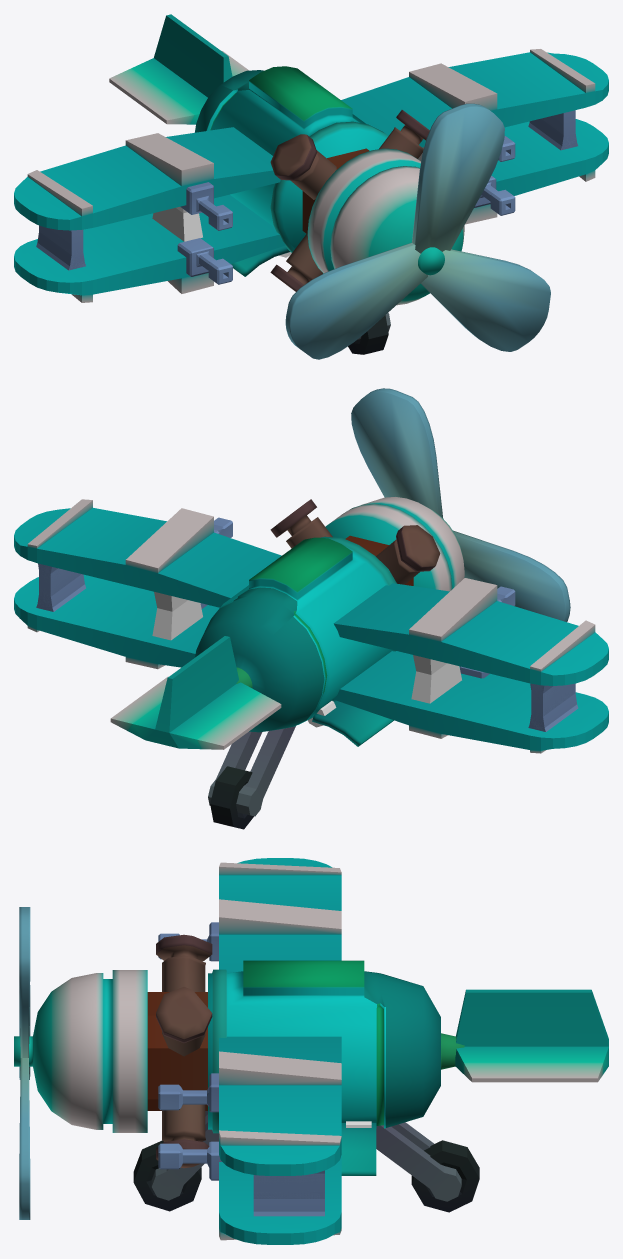
Rendered from самолет 5.fbx.
3 renders of one model, top to bottom at view 1: azimuth 30°, elevation 25°; view 2: azimuth 150°, elevation 25°; view 3: azimuth 270°, elevation 25°, orthographic. The views are drawn at different scales.
Visible parts, largest first — view 1: Cube.050, Cube.053, Cylinder.046, Cylinder.044, Cube.054, Cylinder.045, Cube.055, Cube.051, Cube.052, Cylinder.054, Cube.049, Cylinder.048; view 2: Cube.050, Cylinder.046, Cube.053, Cube.054, Cylinder.044, Cylinder.049, Cylinder.045, Cube.051, Cube.052, Cylinder.048, Cube.055; view 3: Cube.050, Cylinder.046, Cylinder.044, Cube.054, Cylinder.045, Cylinder.049, Cube.049, Cube.053, Cube.055, Cylinder.054, Cube.051, Cylinder.047.
Part boxes in pixels (x1,y1,x2,y2): Cube.050: (14,49,608,302); Cube.053: (285,103,550,359); Cylinder.046: (195,66,388,252); Cylinder.044: (307,148,464,305); Cube.054: (109,14,248,124); Cylinder.045: (270,110,429,291); Cube.055: (177,136,515,284); Cube.051: (36,110,578,270); Cube.052: (152,147,424,241); Cylinder.054: (348,313,390,354); Cube.049: (302,148,369,233); Cylinder.048: (231,245,289,276); Cube.050: (14,499,608,753); Cylinder.046: (195,536,396,732); Cube.053: (351,388,570,621); Cube.054: (110,636,281,749); Cylinder.044: (325,497,464,591); Cylinder.049: (208,726,295,829); Cylinder.045: (270,499,440,584); Cube.051: (36,563,578,731); Cube.052: (152,592,461,703); Cylinder.048: (312,700,393,746); Cube.055: (200,517,515,678); Cube.050: (219,858,341,1244); Cylinder.046: (208,960,464,1133); Cylinder.044: (14,970,147,1132); Cube.054: (455,989,608,1082); Cylinder.045: (156,934,212,1168); Cylinder.049: (376,1122,479,1212); Cube.049: (147,992,207,1110); Cube.053: (19,907,30,1219); Cube.055: (158,922,221,1180); Cylinder.054: (133,1111,218,1211); Cube.051: (253,1170,324,1216); Cylinder.047: (341,1123,376,1175).
Bounding box in the file's own units: 924 × 439 × 758.
